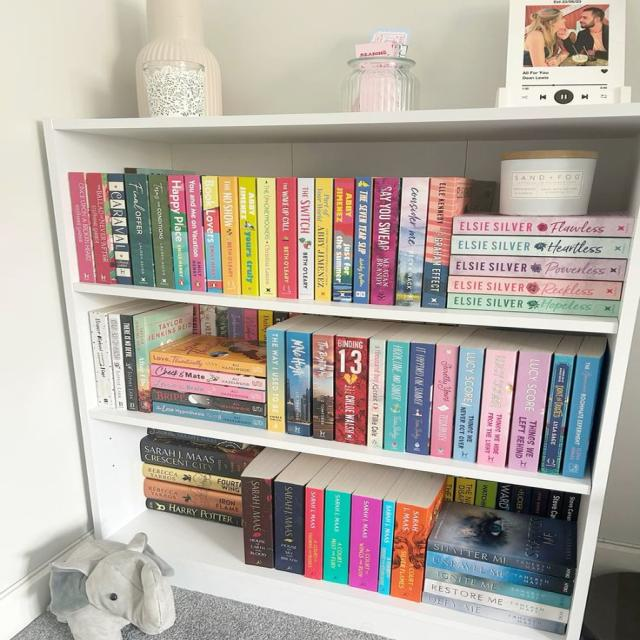book: (423, 579, 569, 623), (428, 552, 574, 596), (426, 566, 571, 610), (427, 538, 575, 580), (422, 591, 566, 634), (140, 430, 263, 478), (510, 352, 553, 473), (562, 356, 600, 480), (478, 349, 516, 467), (450, 255, 627, 280), (451, 235, 630, 259), (422, 177, 455, 307), (448, 276, 623, 300), (396, 177, 428, 307), (448, 293, 620, 317), (540, 356, 574, 476), (143, 477, 242, 517), (370, 177, 399, 305), (453, 348, 485, 463), (391, 503, 428, 601), (336, 337, 369, 445), (85, 173, 117, 284), (431, 344, 461, 460), (124, 173, 153, 286), (452, 217, 630, 235), (350, 495, 383, 592), (153, 401, 266, 429), (407, 343, 435, 455), (150, 376, 265, 403), (151, 389, 265, 416), (142, 463, 241, 494), (150, 364, 265, 390), (240, 478, 273, 568), (69, 173, 96, 282), (148, 173, 173, 288), (151, 352, 266, 377), (331, 179, 354, 302), (106, 173, 131, 284), (275, 481, 304, 574), (385, 341, 409, 452), (146, 499, 241, 527), (351, 177, 372, 303), (324, 490, 352, 584), (218, 177, 239, 294), (286, 332, 310, 434), (277, 177, 297, 298), (168, 175, 189, 289), (238, 177, 258, 296), (314, 178, 333, 301), (90, 312, 114, 408), (313, 333, 334, 439), (184, 175, 203, 291), (202, 176, 221, 292), (257, 177, 275, 297), (297, 177, 314, 300), (367, 339, 384, 449), (267, 329, 285, 430), (305, 488, 324, 580), (109, 313, 127, 410), (378, 500, 396, 595), (134, 317, 151, 413), (122, 315, 139, 409)
candle: (500, 150, 597, 214)
